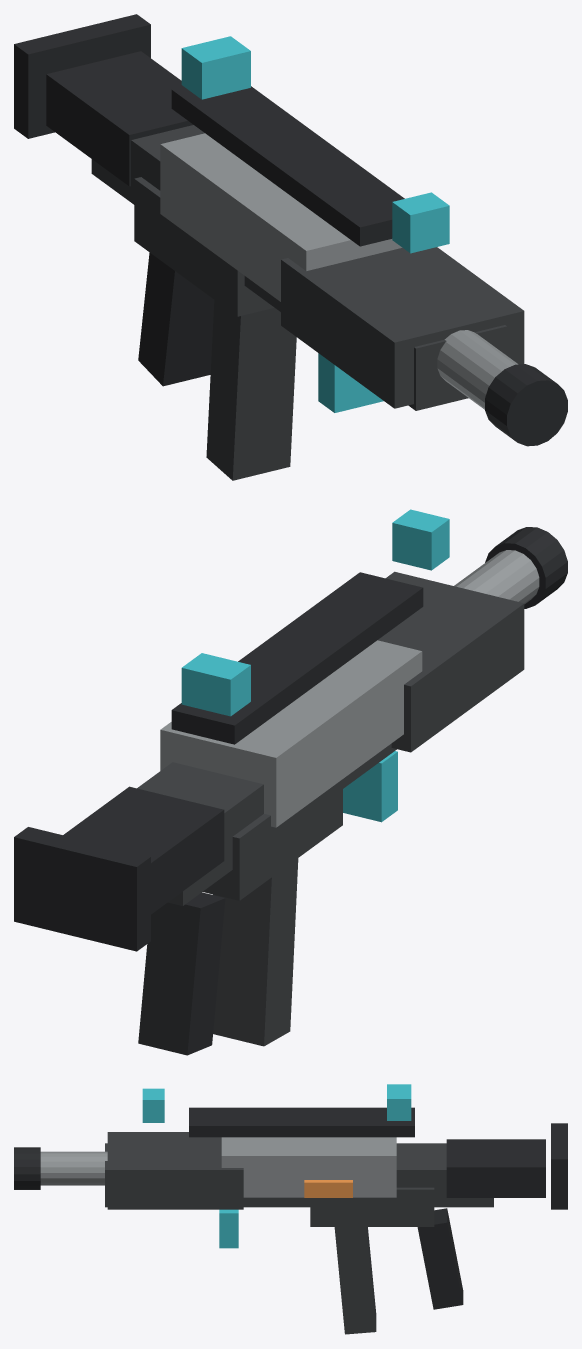
The model's file is wpn_a1_compact_rifle_01.glb.
The picture shows the model from 3 angles, top to bottom: view 1: azimuth 30°, elevation 25°; view 2: azimuth 150°, elevation 25°; view 3: azimuth 270°, elevation 25°; orthographic projection. The views are drawn at different scales.
Visible parts, largest first — view 1: wpn_a1_compact_rifle_01_lod0_handguard, wpn_a1_compact_rifle_01_lod0_upper_body, wpn_a1_compact_rifle_01_lod0_top_rail, wpn_a1_compact_rifle_01_lod0_magazine, wpn_a1_compact_rifle_01_lod0_rear_support, wpn_a1_compact_rifle_01_lod0_grip, wpn_a1_compact_rifle_01_lod0_stock_pad, wpn_a1_compact_rifle_01_lod0_lower_body, wpn_a1_compact_rifle_01_lod1_blockout, wpn_a1_compact_rifle_01_lod0_muzzle_mark, wpn_a1_compact_rifle_01_lod0_rear_sight, wpn_a1_compact_rifle_01_lod0_front_tube (+2 smaller); view 2: wpn_a1_compact_rifle_01_lod0_upper_body, wpn_a1_compact_rifle_01_lod0_handguard, wpn_a1_compact_rifle_01_lod0_top_rail, wpn_a1_compact_rifle_01_lod0_stock_pad, wpn_a1_compact_rifle_01_lod0_magazine, wpn_a1_compact_rifle_01_lod0_grip, wpn_a1_compact_rifle_01_lod0_rear_support, wpn_a1_compact_rifle_01_lod0_lower_body, wpn_a1_compact_rifle_01_lod1_blockout, wpn_a1_compact_rifle_01_lod0_rear_sight, wpn_a1_compact_rifle_01_lod0_front_sight, wpn_a1_compact_rifle_01_lod0_front_tube (+2 smaller); view 3: wpn_a1_compact_rifle_01_lod0_handguard, wpn_a1_compact_rifle_01_lod0_upper_body, wpn_a1_compact_rifle_01_lod0_top_rail, wpn_a1_compact_rifle_01_lod0_rear_support, wpn_a1_compact_rifle_01_lod0_lower_body, wpn_a1_compact_rifle_01_lod1_blockout, wpn_a1_compact_rifle_01_lod0_magazine, wpn_a1_compact_rifle_01_lod0_grip, wpn_a1_compact_rifle_01_lod0_front_tube, wpn_a1_compact_rifle_01_lod0_stock_pad, wpn_a1_compact_rifle_01_lod0_muzzle_mark, wpn_a1_compact_rifle_01_lod0_rear_sight (+3 smaller).
Boxes of the visible parts, box(x1,y1,x2,y2) form: wpn_a1_compact_rifle_01_lod0_handguard: box(281, 247, 524, 408); wpn_a1_compact_rifle_01_lod0_upper_body: box(160, 133, 402, 301); wpn_a1_compact_rifle_01_lod0_top_rail: box(171, 86, 404, 246); wpn_a1_compact_rifle_01_lod0_magazine: box(206, 300, 296, 480); wpn_a1_compact_rifle_01_lod0_rear_support: box(46, 51, 193, 186); wpn_a1_compact_rifle_01_lod0_grip: box(138, 252, 214, 386); wpn_a1_compact_rifle_01_lod0_stock_pad: box(14, 14, 150, 138); wpn_a1_compact_rifle_01_lod0_lower_body: box(134, 177, 274, 316); wpn_a1_compact_rifle_01_lod1_blockout: box(91, 125, 507, 410); wpn_a1_compact_rifle_01_lod0_muzzle_mark: box(485, 364, 567, 446); wpn_a1_compact_rifle_01_lod0_rear_sight: box(181, 36, 250, 99); wpn_a1_compact_rifle_01_lod0_front_tube: box(437, 330, 518, 409); wpn_a1_compact_rifle_01_lod0_upper_body: box(160, 640, 422, 827); wpn_a1_compact_rifle_01_lod0_handguard: box(378, 571, 524, 752); wpn_a1_compact_rifle_01_lod0_top_rail: box(171, 572, 423, 744); wpn_a1_compact_rifle_01_lod0_stock_pad: box(14, 827, 150, 951); wpn_a1_compact_rifle_01_lod0_magazine: box(213, 858, 298, 1046); wpn_a1_compact_rifle_01_lod0_grip: box(138, 892, 225, 1055); wpn_a1_compact_rifle_01_lod0_rear_support: box(63, 786, 224, 914); wpn_a1_compact_rifle_01_lod0_lower_body: box(203, 779, 342, 900); wpn_a1_compact_rifle_01_lod1_blockout: box(137, 743, 396, 905); wpn_a1_compact_rifle_01_lod0_rear_sight: box(181, 653, 250, 716); wpn_a1_compact_rifle_01_lod0_front_sight: box(392, 509, 449, 570); wpn_a1_compact_rifle_01_lod0_front_tube: box(454, 550, 539, 604); wpn_a1_compact_rifle_01_lod0_handguard: box(107, 1132, 243, 1209); wpn_a1_compact_rifle_01_lod0_upper_body: box(221, 1137, 396, 1197); wpn_a1_compact_rifle_01_lod0_top_rail: box(189, 1107, 414, 1137); wpn_a1_compact_rifle_01_lod0_rear_support: box(446, 1139, 545, 1197); wpn_a1_compact_rifle_01_lod0_lower_body: box(310, 1187, 434, 1226); wpn_a1_compact_rifle_01_lod1_blockout: box(105, 1143, 493, 1207); wpn_a1_compact_rifle_01_lod0_magazine: box(334, 1227, 376, 1334); wpn_a1_compact_rifle_01_lod0_grip: box(417, 1208, 463, 1309); wpn_a1_compact_rifle_01_lod0_front_tube: box(40, 1151, 107, 1185); wpn_a1_compact_rifle_01_lod0_stock_pad: box(551, 1123, 567, 1209); wpn_a1_compact_rifle_01_lod0_muzzle_mark: box(14, 1147, 40, 1189); wpn_a1_compact_rifle_01_lod0_rear_sight: box(387, 1084, 411, 1120).
Size of the model in its own units: 0.1875 by 0.5324 by 1.14.
